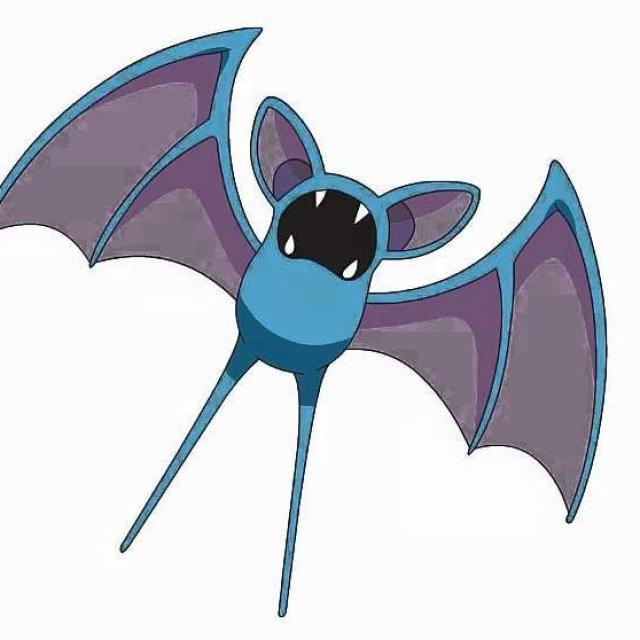Zubat: (41, 58, 605, 532)
